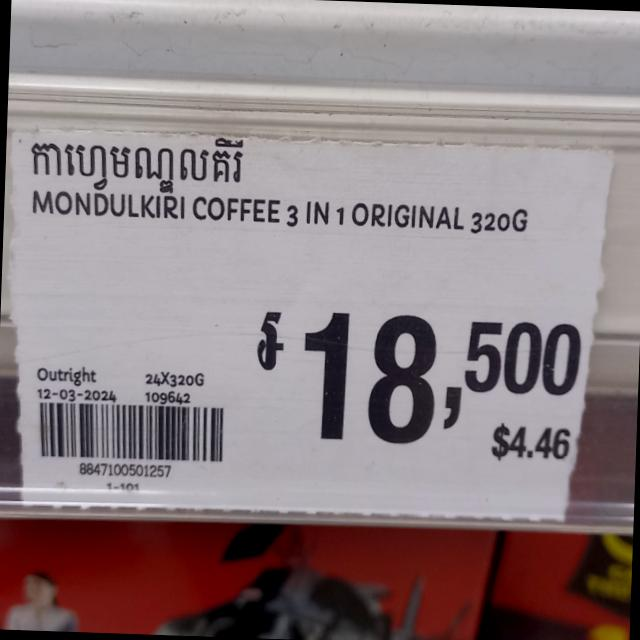503: (333, 201, 349, 227)
511: (104, 480, 141, 495)
548: (143, 391, 193, 404)
559: (35, 385, 121, 402)
620: (301, 286, 580, 469)
666: (140, 369, 160, 386)
702: (281, 201, 300, 234)
722: (467, 202, 510, 240), (170, 368, 194, 387)
745: (510, 422, 569, 463)
860: (76, 461, 172, 477)
Yolov11kh: (28, 128, 251, 197)
